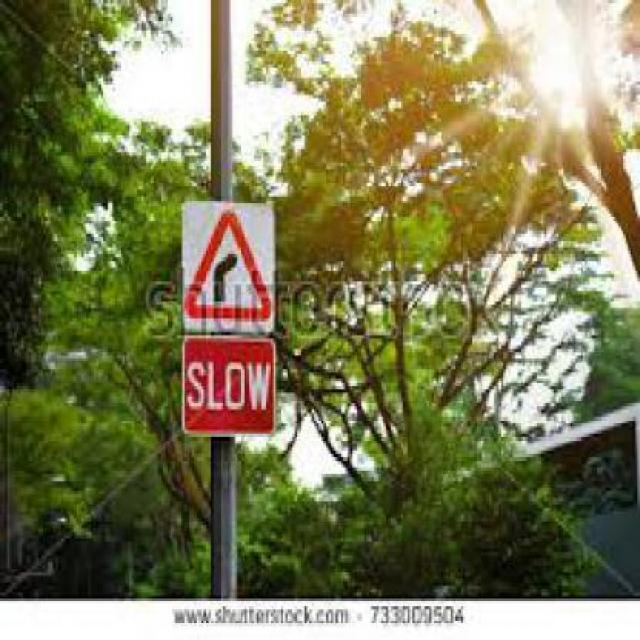traffic_sign: (184, 210, 270, 325)
